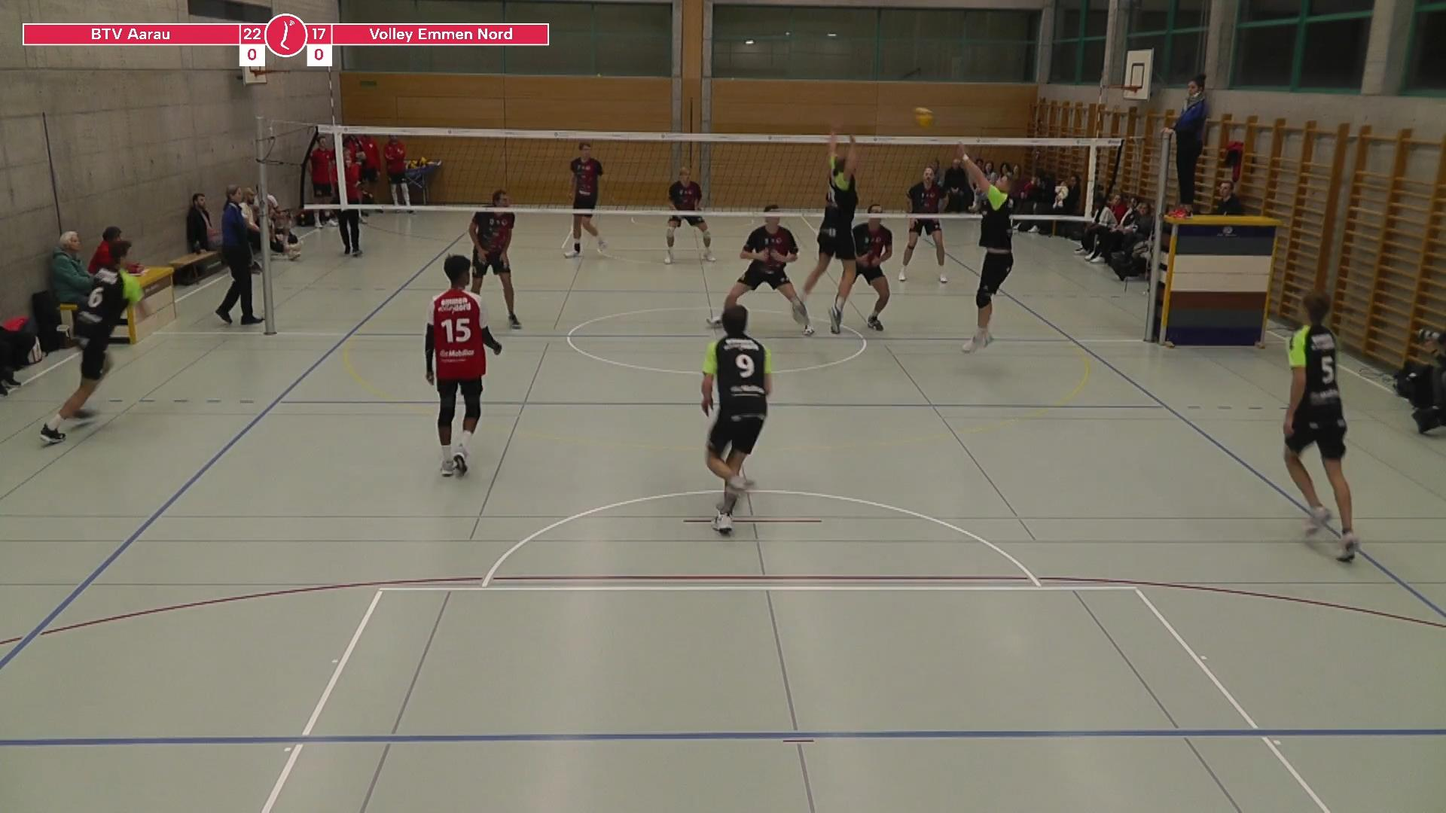alzata: (943, 142, 1023, 360)
